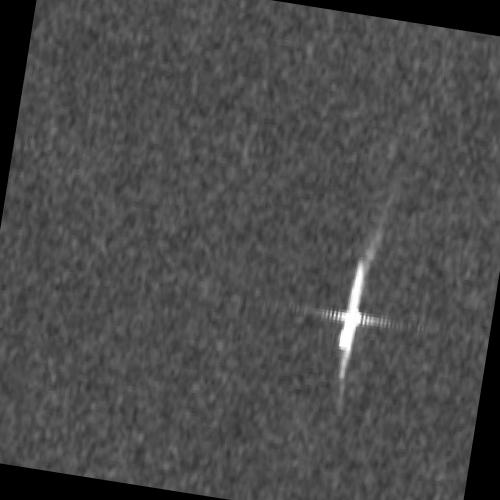ship: (338, 261, 364, 356)
